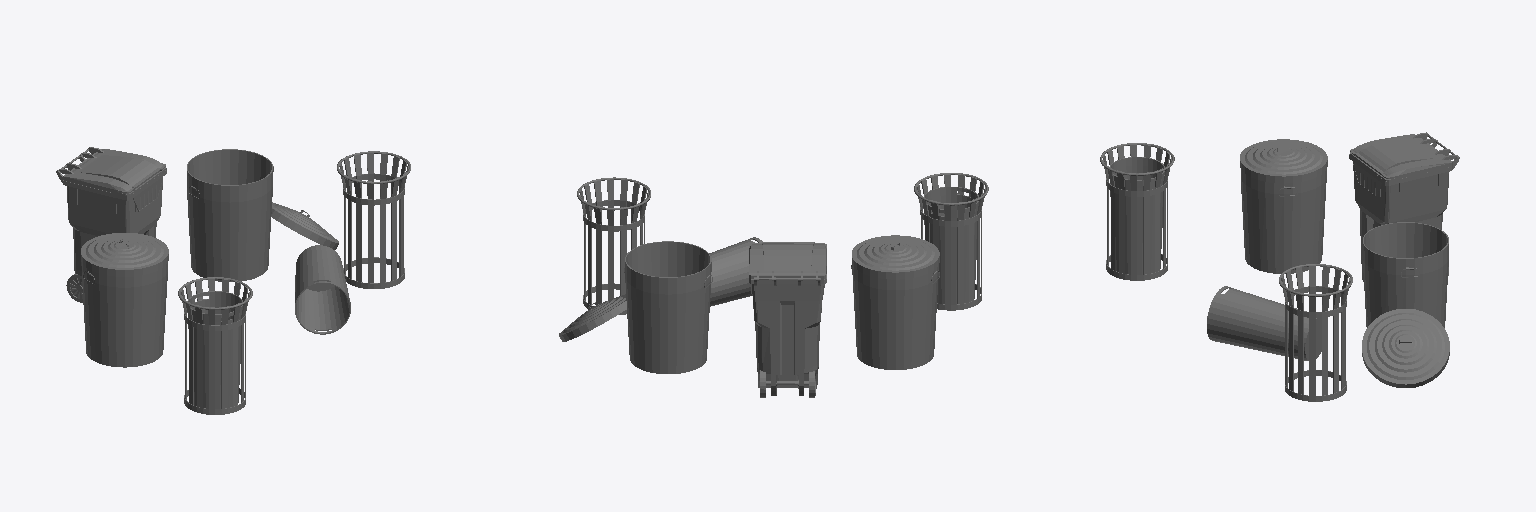
Rendered from trash_cans.obj.
3 renders of one model, left to right at view 1: azimuth 30°, elevation 25°; view 2: azimuth 150°, elevation 25°; view 3: azimuth 270°, elevation 25°, orthographic.
Parts seen in each view (by area): view 1: trash_cans:trash_can02, trash_cans:trash_can, trash_cans:garbage_bin1, recycle_bin:recycle_bin3, trash_cans:garbage_bin; view 2: trash_cans:trash_can02, trash_cans:trash_can, recycle_bin:recycle_bin3, trash_cans:garbage_bin, trash_cans:garbage_bin1; view 3: trash_cans:trash_can02, trash_cans:garbage_bin1, trash_cans:trash_can, recycle_bin:recycle_bin3, trash_cans:garbage_bin.
Part boxes in pixels (bbox=[...]): trash_cans:trash_can02: bbox=[187, 149, 338, 281]; trash_cans:trash_can: bbox=[81, 233, 168, 367]; trash_cans:garbage_bin1: bbox=[295, 151, 410, 334]; recycle_bin:recycle_bin3: bbox=[56, 147, 166, 302]; trash_cans:garbage_bin: bbox=[178, 277, 252, 414]; trash_cans:trash_can02: bbox=[559, 241, 712, 373]; trash_cans:trash_can: bbox=[851, 235, 939, 369]; recycle_bin:recycle_bin3: bbox=[749, 242, 826, 397]; trash_cans:garbage_bin: bbox=[914, 173, 988, 310]; trash_cans:garbage_bin1: bbox=[577, 177, 762, 314]; trash_cans:trash_can02: bbox=[1362, 222, 1449, 387]; trash_cans:garbage_bin1: bbox=[1207, 264, 1352, 401]; trash_cans:trash_can: bbox=[1240, 139, 1327, 273]; recycle_bin:recycle_bin3: bbox=[1349, 132, 1459, 281]; trash_cans:garbage_bin: bbox=[1100, 143, 1174, 280].
Size of the model in its own units: 203 by 76.51 by 188.